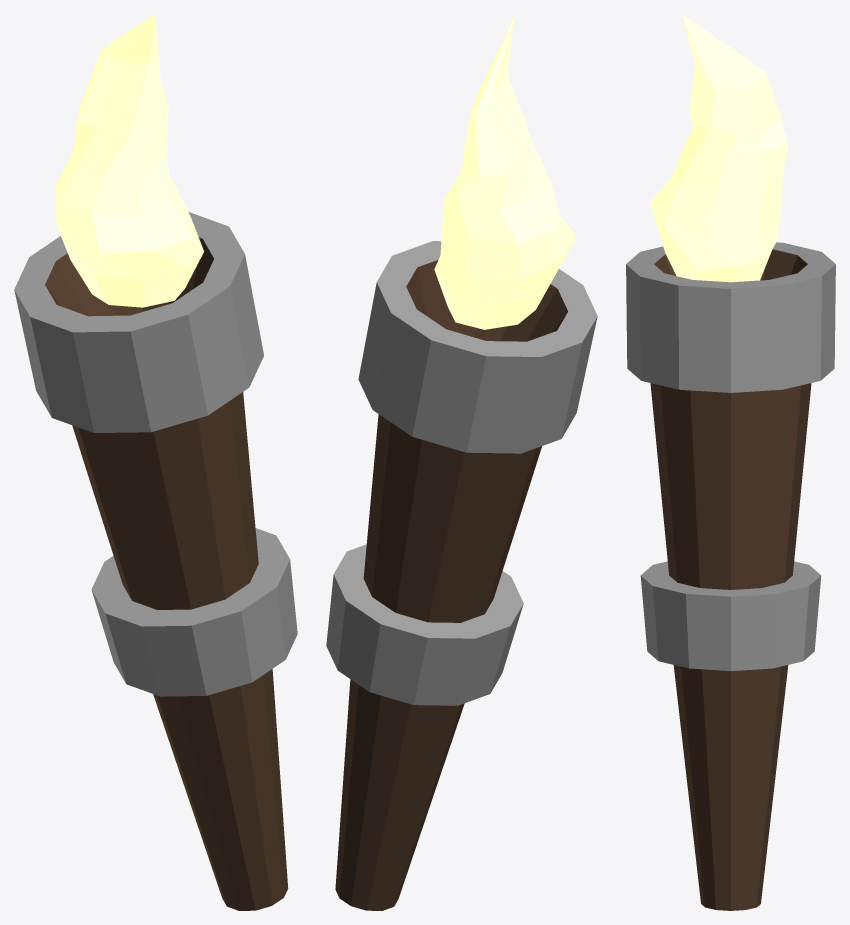
File: TorchMD.fbx
3 views of the same model, side by side, from view 1: azimuth 30°, elevation 25°; view 2: azimuth 150°, elevation 25°; view 3: azimuth 270°, elevation 25° (orthographic). The views are drawn at different scales.
Parts seen in each view (by area): view 1: Cylinder.003; view 2: Cylinder.003; view 3: Cylinder.003.
Boxes of the visible parts, bbox=[...] form: Cylinder.003: bbox=[14, 14, 297, 910]; Cylinder.003: bbox=[326, 14, 597, 910]; Cylinder.003: bbox=[626, 14, 835, 910].
Size of the model in its own units: 21.86 by 96.44 by 27.45.
